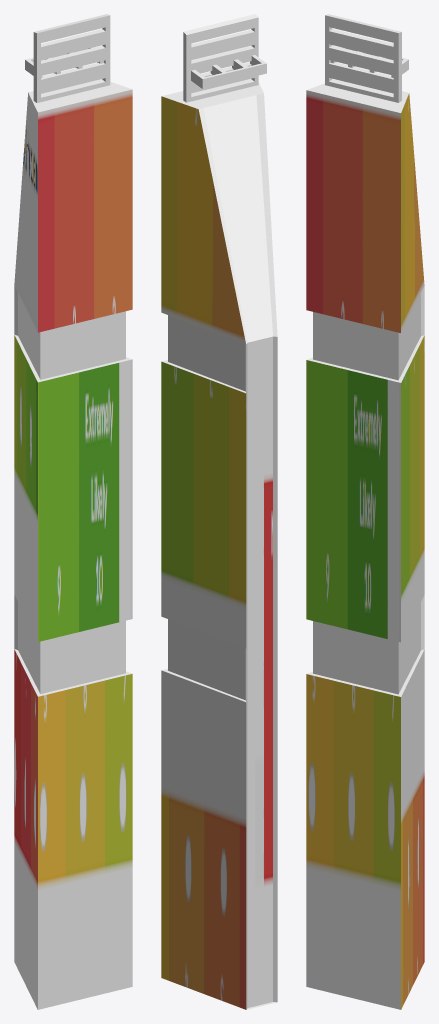
3 renders of one model, left to right at view 1: azimuth 30°, elevation 25°; view 2: azimuth 210°, elevation 25°; view 3: azimuth 330°, elevation 25°, orthographic.
Parts seen in each view (by area): view 1: Body_sh_5, Body_sh_7, Body_sh_4, Body_sh_10, Body_sh_1, Body_sh_8, Body_sh_9, Body_sh_11, Body_sh_12, Body_sh_3, Body_sh_6; view 2: Body_sh_2, Body_sh_6, Body_sh_5, Body_sh_4, Body_sh_9, Body_sh_3, Body_sh_7, Body_sh_8, Body_sh_11, Body_sh_12, Body_sh_13, Body_sh_16; view 3: Body_sh_5, Body_sh_4, Body_sh_7, Body_sh_8, Body_sh_1, Body_sh_10, Body_sh_2, Body_sh_6, Body_sh_11, Body_sh_12.
Boxes of the visible parts, <box> form: Body_sh_5: <box>63,577,132,1003</box>; Body_sh_7: <box>23,86,90,582</box>; Body_sh_4: <box>84,88,132,719</box>; Body_sh_10: <box>18,163,72,717</box>; Body_sh_1: <box>24,704,63,1009</box>; Body_sh_8: <box>71,79,129,426</box>; Body_sh_9: <box>14,232,29,829</box>; Body_sh_11: <box>33,22,78,102</box>; Body_sh_12: <box>75,14,110,92</box>; Body_sh_3: <box>14,757,25,983</box>; Body_sh_6: <box>18,162,85,583</box>; Body_sh_2: <box>198,388,266,1009</box>; Body_sh_6: <box>184,108,273,627</box>; Body_sh_5: <box>161,607,209,995</box>; Body_sh_4: <box>161,95,188,715</box>; Body_sh_9: <box>258,269,277,818</box>; Body_sh_3: <box>260,800,277,1006</box>; Body_sh_7: <box>210,79,268,176</box>; Body_sh_8: <box>164,89,226,207</box>; Body_sh_11: <box>214,14,258,94</box>; Body_sh_12: <box>183,24,217,102</box>; Body_sh_13: <box>227,55,266,82</box>; Body_sh_16: <box>191,70,223,87</box>; Body_sh_5: <box>332,577,414,1009</box>; Body_sh_4: <box>352,111,408,742</box>; Body_sh_7: <box>306,79,375,577</box>; Body_sh_8: <box>356,89,408,428</box>; Body_sh_1: <box>306,693,332,992</box>; Body_sh_10: <box>306,357,341,695</box>; Body_sh_2: <box>408,327,424,982</box>; Body_sh_6: <box>341,91,424,617</box>; Body_sh_11: <box>325,14,369,95</box>; Body_sh_12: <box>366,24,401,102</box>.
Size of the model in its own units: 652 by 6355 by 654.
